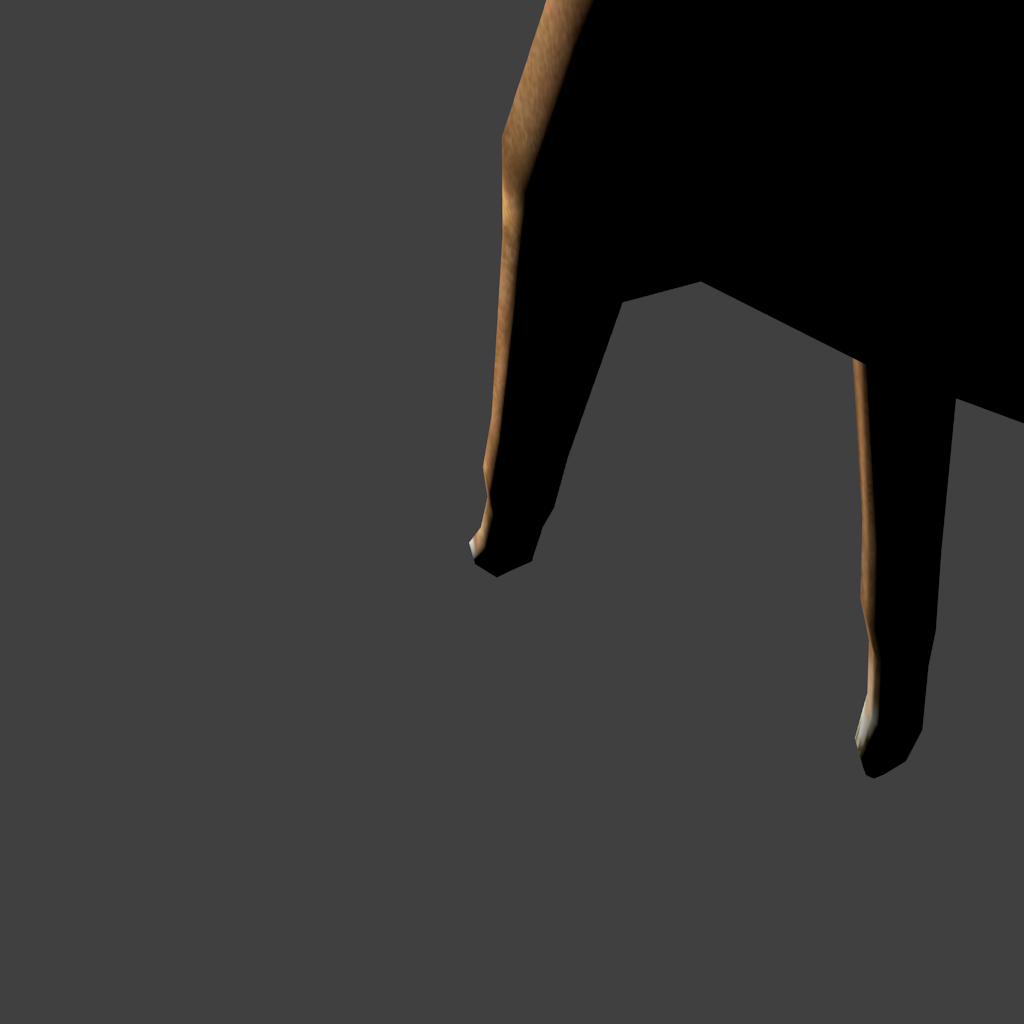Dog: (439, 0, 585, 1024)
